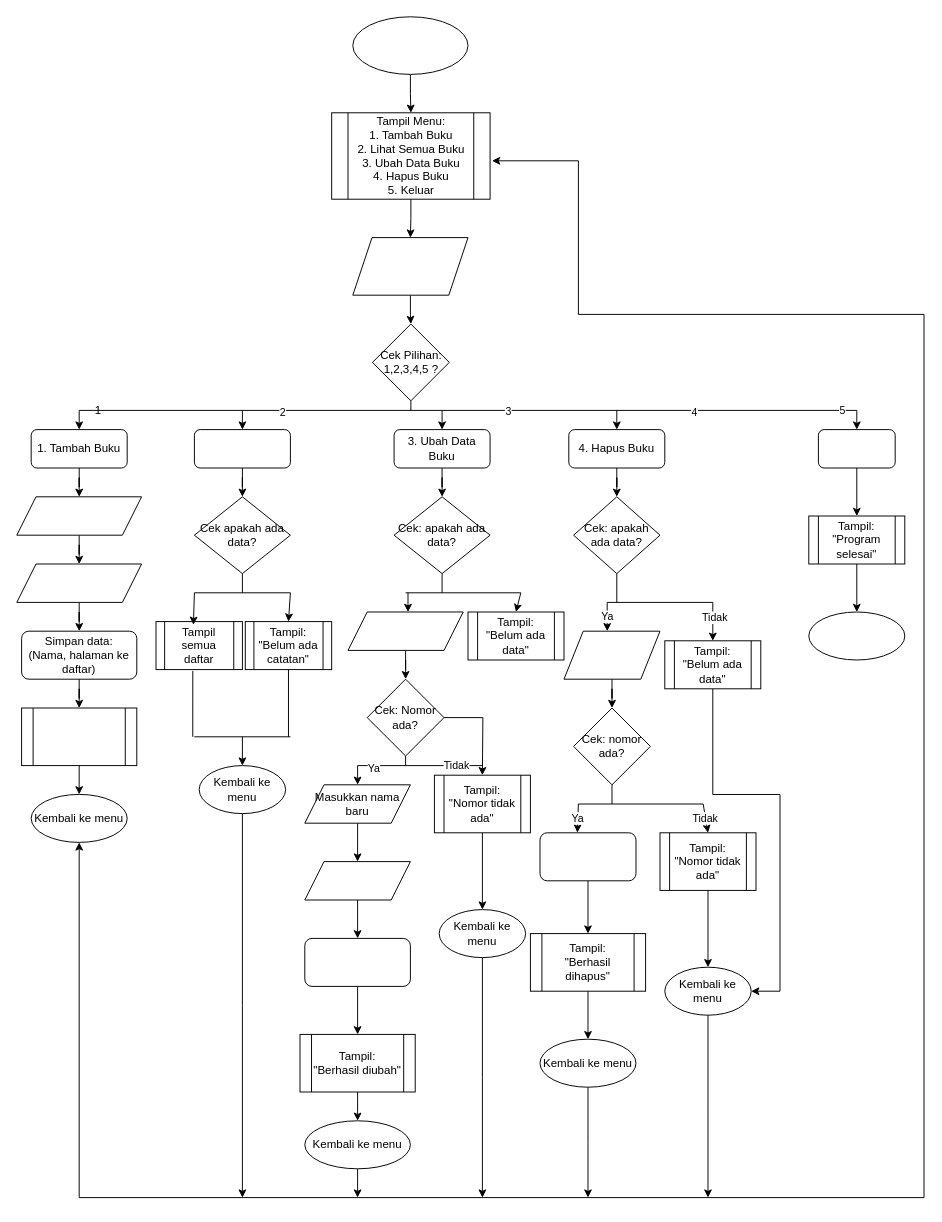
This 942x1222 diagram has some shape labels left out. The centre of each missing label's shape, as x and y in pixels:
2. Lihat Semua Buku: the point at 241,448
5. Keluar: the point at 856,448
END: the point at 856,635
Ganti data lama dengan yang baru: the point at 357,961
Hapus data dari daftar: the point at 587,856
Masukkan halaman baru: the point at 357,880
Masukkan halaman terakhir dibaca: the point at 79,582
Masukkan nama buku: the point at 79,515
Masukkan Nomor yang dihapus: the point at 611,654
Masukkan nomor yang diubah: the point at 405,630
Masukkan Pilihan Angka: the point at 410,266
START: the point at 410,45
Tampil: "Berhasil ditambahkan": the point at 79,736
